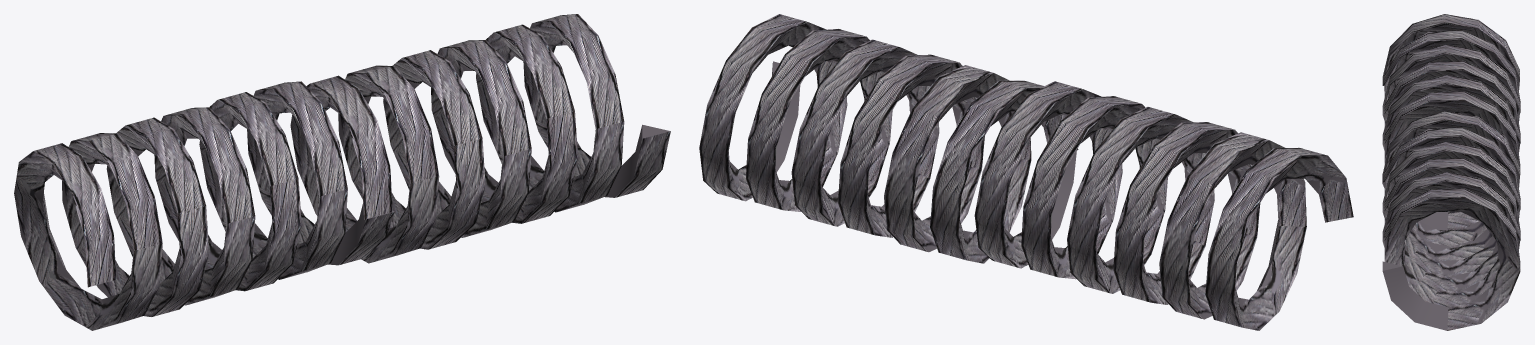
The model's file is CuerdaGancho.fbx.
The picture shows the model from 3 angles, left to right: view 1: azimuth 30°, elevation 25°; view 2: azimuth 150°, elevation 25°; view 3: azimuth 270°, elevation 25°; orthographic projection. The views are drawn at different scales.
Visible parts, largest first — view 1: pCylinder25, pCylinder26; view 2: pCylinder25, pCylinder26; view 3: pCylinder26, pCylinder25.
Part boxes in pixels (x1,y1,x2,y2): pCylinder25: [14, 81, 394, 330]; pCylinder26: [290, 14, 670, 263]; pCylinder25: [974, 81, 1353, 330]; pCylinder26: [699, 14, 1078, 263]; pCylinder26: [1382, 111, 1520, 330]; pCylinder25: [1382, 14, 1520, 230].
Size of the model in its own units: 343 by 101 by 98.21.
1 material, 1 textured.
